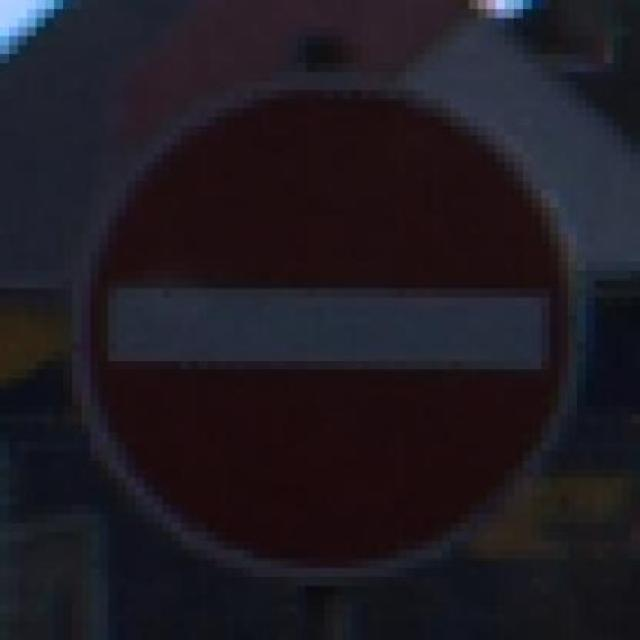No Entry: (44, 60, 622, 574)
